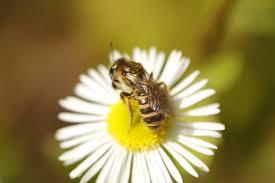Seladonia: (105, 45, 183, 132)
